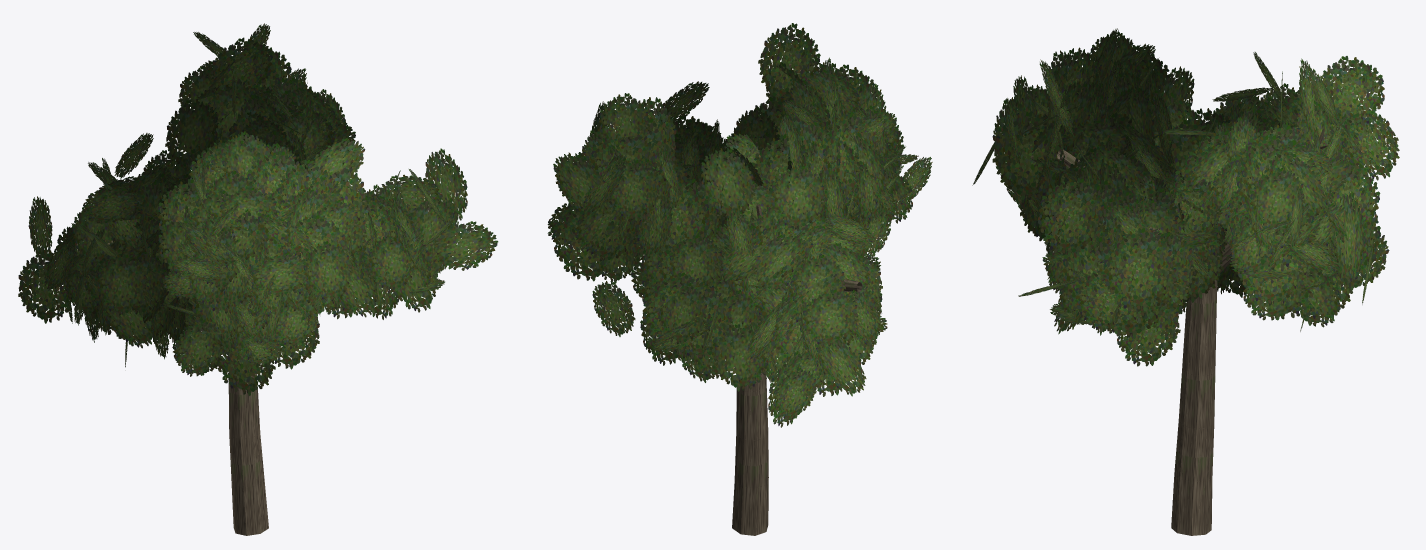
The model's file is Tree_Oak_2.gltf.
3 views of the same model, side by side, from view 1: azimuth 30°, elevation 25°; view 2: azimuth 150°, elevation 25°; view 3: azimuth 270°, elevation 25° (orthographic). The views are drawn at different scales.
Parts seen in each view (by area): view 1: Tree_Oak_2; view 2: Tree_Oak_2; view 3: Tree_Oak_2.
Part boxes in pixels (box(x1,y1,x2,y2)): Tree_Oak_2: box(18, 23, 498, 535); Tree_Oak_2: box(547, 23, 932, 535); Tree_Oak_2: box(972, 28, 1399, 535).
Size of the model in its own units: 16 by 18.97 by 15.31.
2 materials, 2 textured.
